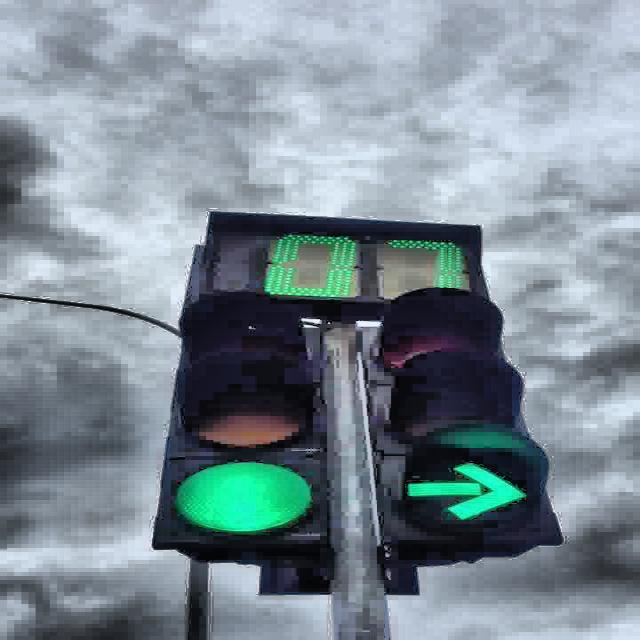green: (380, 288, 564, 544), (153, 291, 324, 550)
